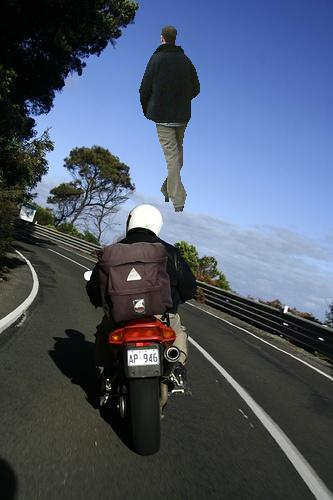tampered: (140, 26, 200, 212)
